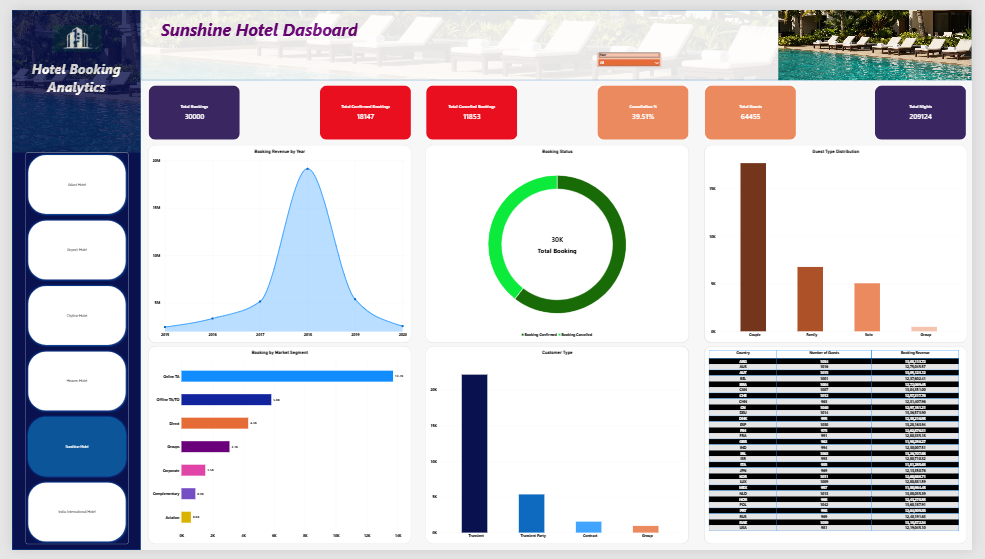

What the dashboard file says about the page in this screenshot:
{"tool":"powerbi","page":{"name":"Sunshine Hotel","canvas":[3840,2160],"ordinal":4},"visuals":[{"type":"shape","box":[0,0,515,2160],"z":0},{"type":"image","box":[158,62,200,107],"z":1000},{"type":"shape","box":[515,0,3325,281.2],"z":2000},{"type":"image","box":[3065.4,0,773.1,280.8],"z":3000},{"type":"image","box":[515.4,0,2550,280.8],"z":4000},{"type":"donutChart","title":"Booking  Status ","fields":{"Category":["Sunshine_Hotel.Booking  Status"],"Y":["CountNonNull(Sunshine_Hotel.Booking  Status)"]},"box":[1655,537.5,1051.7,790],"z":5000},{"type":"barChart","title":"Booking by Market Segment ","fields":{"Category":["Sunshine_Hotel.market_segment"],"Y":["CountNonNull(Sunshine_Hotel.market_segment)"]},"box":[546.3,1346.3,1051.2,790.2],"z":6000},{"type":"clusteredColumnChart","title":"Guest  Type  Distribution","fields":{"Category":["Sunshine_Hotel.Guest  Type"],"Y":["CountNonNull(Sunshine_Hotel.Guest  Type)"]},"box":[2769.6,537.7,1050,790],"z":7000},{"type":"stackedAreaChart","title":"Booking  Revenue by Year","fields":{"Category":["Sunshine_Hotel.Year"],"Y":["Sum(Sunshine_Hotel.Booking  Revenue)"]},"box":[546.7,538.3,1051.7,790],"z":8000},{"type":"cardVisual","title":"Total Bookings","fields":{"Data":["CountNonNull(Sunshine_Hotel.Booking  Status)"]},"box":[546.3,300,367.5,220],"z":9000},{"type":"cardVisual","title":"Total Bookings","fields":{"Data":["Sunshine_Hotel.Total  Night"]},"box":[3448.8,300,367.5,220],"z":10000},{"type":"cardVisual","title":"Total Bookings","fields":{"Data":["Sunshine_Hotel.cancellation      %"]},"box":[2340,300,367.5,220],"z":11000},{"type":"cardVisual","title":"Total Bookings","fields":{"Data":["Sunshine_Hotel.Total guest"]},"box":[2768.3,300,367.5,220],"z":12000},{"type":"cardVisual","title":"Total Bookings","fields":{"Data":["Sunshine_Hotel.Total  cancelled  Booking"]},"box":[1656.4,300,367.5,220],"z":13000},{"type":"image","box":[0,0,515,570],"z":14000},{"type":"pageNavigator","box":[53.3,570,410,1566.7],"z":15000},{"type":"slicer","fields":{"Values":["Sunshine_Hotel.Year"]},"box":[2340,168.9,257.8,57.8],"z":16000},{"type":"slicer","fields":{"Values":["Sunshine_Hotel.Month"]},"box":[1656.7,168.9,257.8,57.8],"z":17000},{"type":"clusteredColumnChart","title":"Customer Type","fields":{"Category":["Sunshine_Hotel.customer_type"],"Y":["CountNonNull(Sunshine_Hotel.customer_type)"]},"box":[1656.1,1346.3,1051.2,790.2],"z":18000},{"type":"tableEx","fields":{"Values":["Sunshine_Hotel.country","CountNonNull(Sunshine_Hotel.country)","Sum(Sunshine_Hotel.Booking  Revenue)"]},"box":[2769,1346.5,1049.3,790.1],"z":19000},{"type":"cardVisual","title":"Total Bookings","fields":{"Data":["Sunshine_Hotel.Total_Booking"]},"box":[1230.9,301.8,367.5,220],"z":19001}]}

Visuals, with their boxes on the page's 3840x2160 design canvas (x1, y1, x2, y2). These are canvas units, not pixel positions in the 985x559 screenshot, which may show the page scaled, cropped or inside an application window:
shape: <box>0,0,515,2160</box>
image: <box>158,62,358,169</box>
shape: <box>515,0,3840,281</box>
image: <box>3065,0,3838,281</box>
image: <box>515,0,3065,281</box>
"Booking  Status " donutChart: <box>1655,538,2707,1328</box>
"Booking by Market Segment " barChart: <box>546,1346,1598,2136</box>
"Guest  Type  Distribution" clusteredColumnChart: <box>2770,538,3820,1328</box>
"Booking  Revenue by Year" stackedAreaChart: <box>547,538,1598,1328</box>
"Total Bookings" cardVisual: <box>546,300,914,520</box>
"Total Bookings" cardVisual: <box>3449,300,3816,520</box>
"Total Bookings" cardVisual: <box>2340,300,2708,520</box>
"Total Bookings" cardVisual: <box>2768,300,3136,520</box>
"Total Bookings" cardVisual: <box>1656,300,2024,520</box>
image: <box>0,0,515,570</box>
pageNavigator: <box>53,570,463,2137</box>
slicer - Sunshine_Hotel.Year: <box>2340,169,2598,227</box>
slicer - Sunshine_Hotel.Month: <box>1657,169,1914,227</box>
"Customer Type" clusteredColumnChart: <box>1656,1346,2707,2136</box>
tableEx - Sunshine_Hotel.country x CountNonNull(Sunshine_Hotel.country): <box>2769,1346,3818,2137</box>
"Total Bookings" cardVisual: <box>1231,302,1598,522</box>
